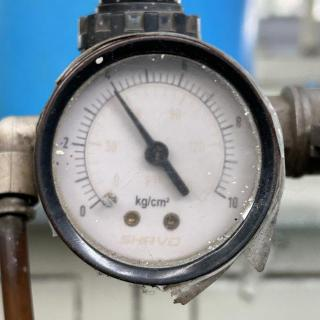gauge: (5, 22, 296, 302), (204, 178, 238, 212), (86, 186, 118, 218), (143, 139, 169, 167), (308, 1, 320, 27), (105, 77, 117, 91)
